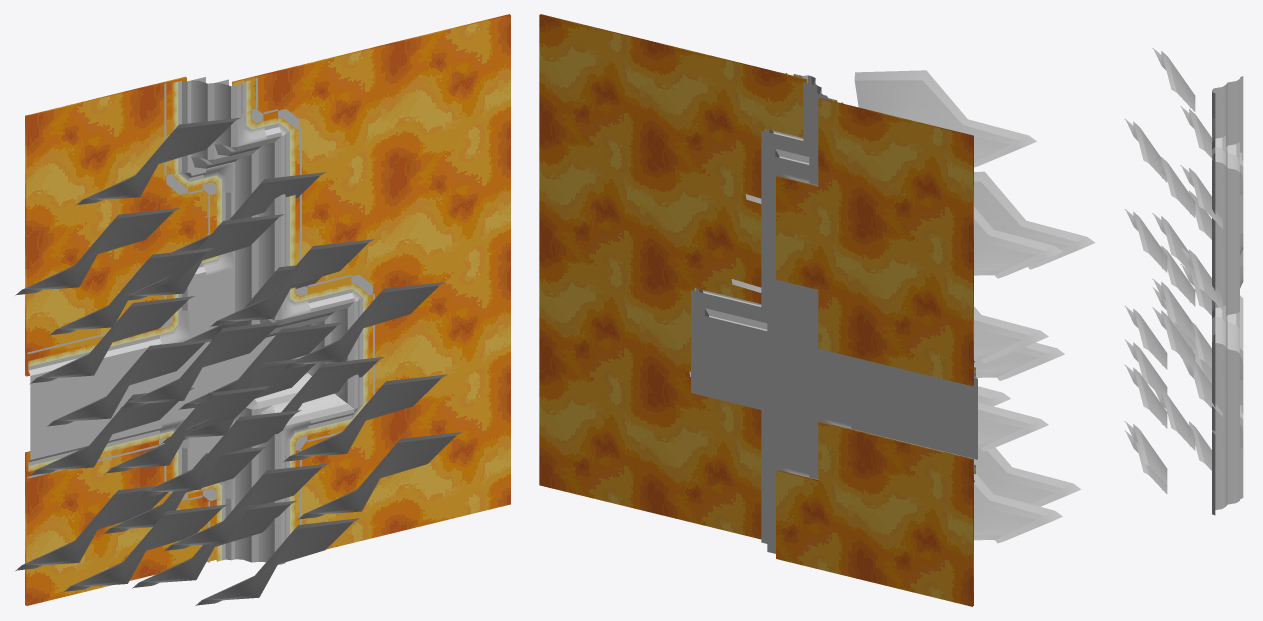
File: Molten-Cave_02_01.obj
3 views of the same model, side by side, from view 1: azimuth 30°, elevation 25°; view 2: azimuth 150°, elevation 25°; view 3: azimuth 270°, elevation 25° (orthographic). The views are drawn at different scales.
Visible parts, largest first — view 1: map; view 2: map; view 3: map.
Boxes of the visible parts, left/top/right/bottom form: map: left=15, top=14, right=510, bottom=605; map: left=539, top=14, right=1095, bottom=606; map: left=1124, top=48, right=1243, bottom=515.
Bounding box in the file's own units: 35.59 × 32.34 × 8.9.
